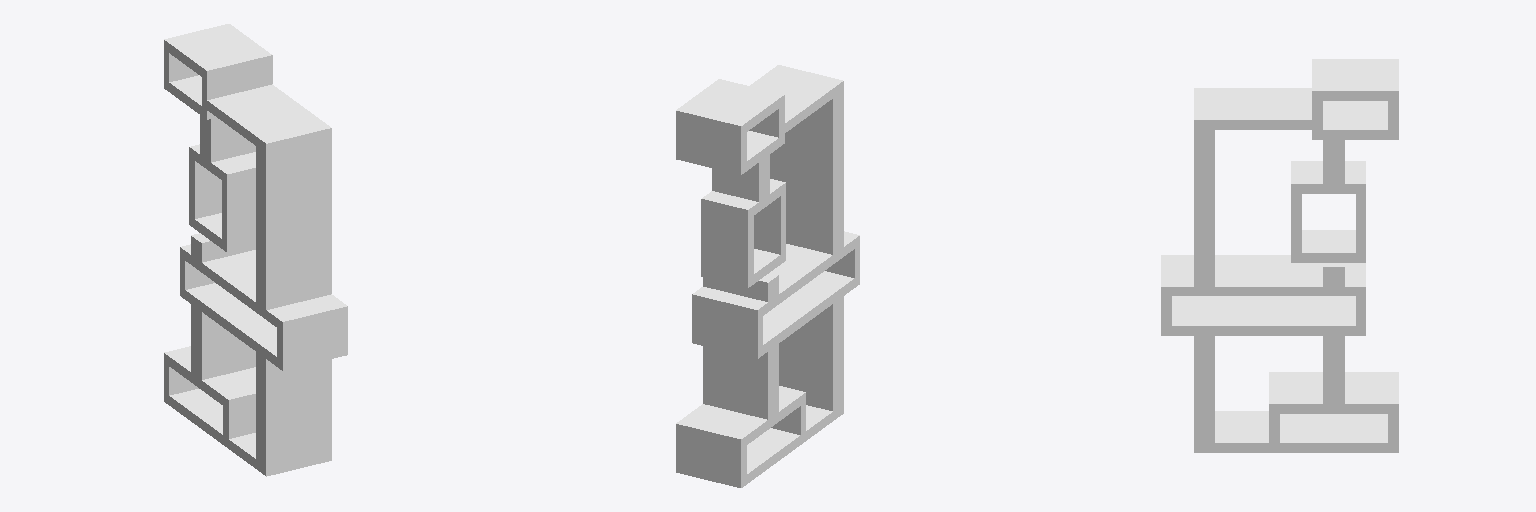
File: prop_designy_statue.obj
3 renders of one model, left to right at view 1: azimuth 30°, elevation 25°; view 2: azimuth 150°, elevation 25°; view 3: azimuth 270°, elevation 25°, orthographic.
Parts seen in each view (by area): view 1: object 1; view 2: object 1; view 3: object 1.
Boxes of the visible parts, box(x1,y1,x2,y2) form: object 1: box(164, 24, 347, 476); object 1: box(676, 65, 859, 487); object 1: box(1161, 59, 1398, 452).
Size of the model in its own units: 0.7 by 3.7 by 2.2.